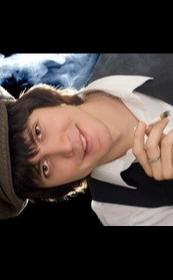Cigarette: (0, 55, 173, 226), (134, 111, 170, 133)
